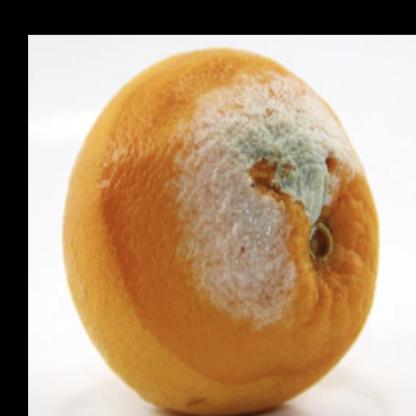rotten: (61, 46, 379, 416)
